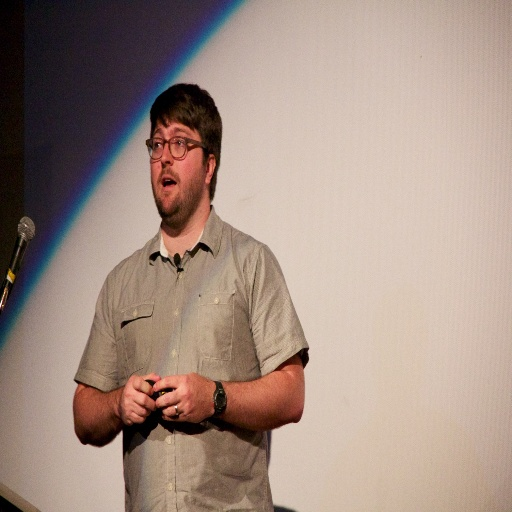hand: (150, 371, 215, 425), (108, 379, 159, 436)
